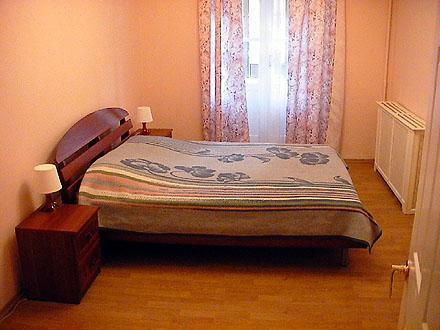Cama: (45, 108, 370, 265)
Otro Obstaculo: (377, 99, 421, 219)
Ventana: (206, 3, 332, 141)
